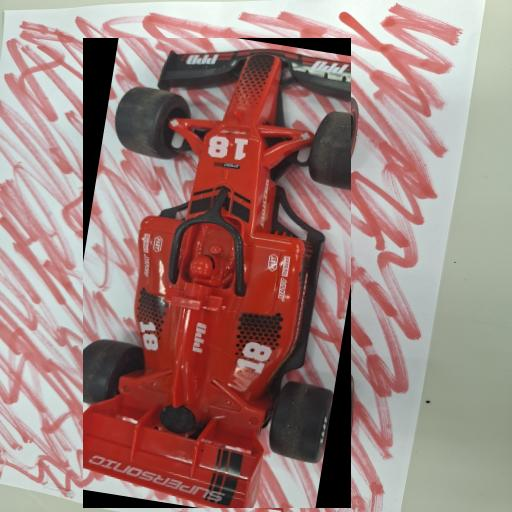carro: (83, 43, 351, 508)
